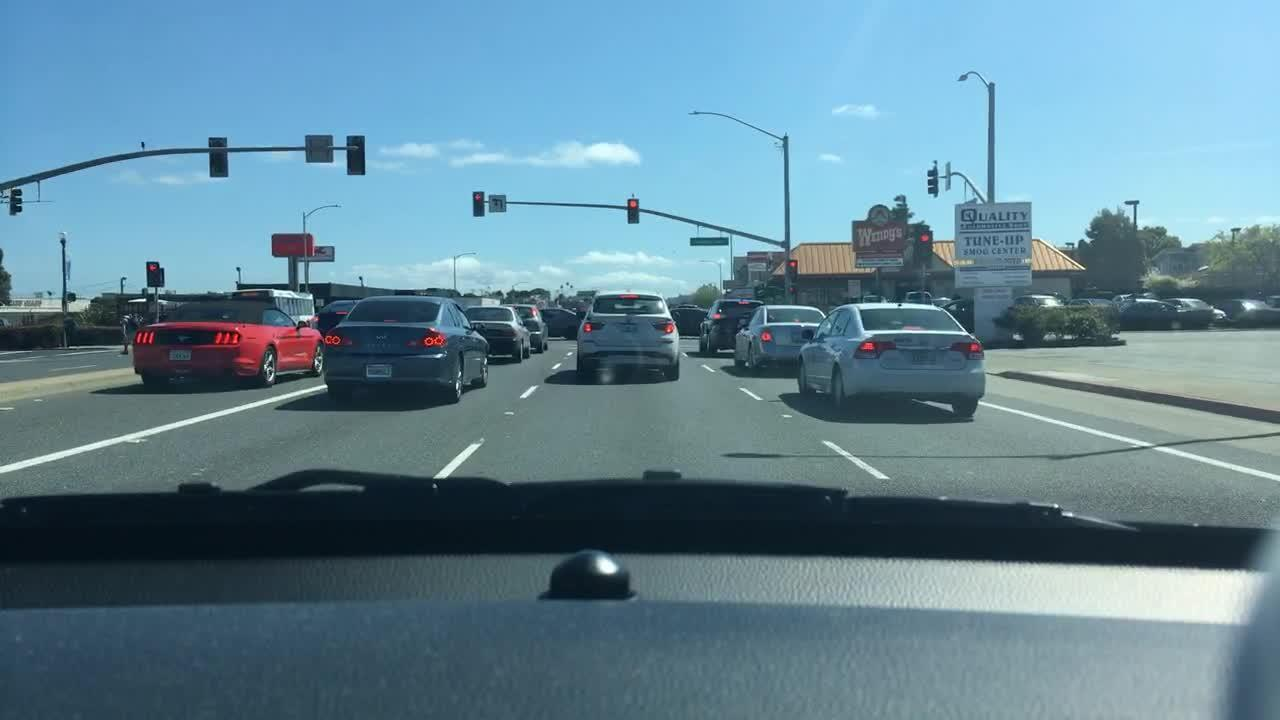no class: (170, 329, 199, 344)
